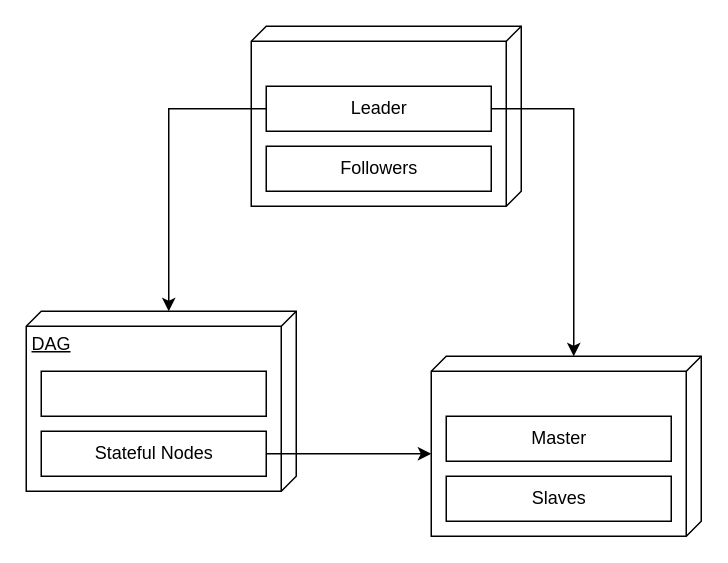
The diagram is 728 pixels wide and 563 high, and some of its shapes have lost their labels. The shapes that lost their labels are listed below. From the top down, each one's box as (x1, y1, x2, y2) in pixels, then its label:
(250, 25, 521, 206): Watchdog
(40, 370, 266, 416): Stateless Nodes
(430, 355, 701, 536): Storage
